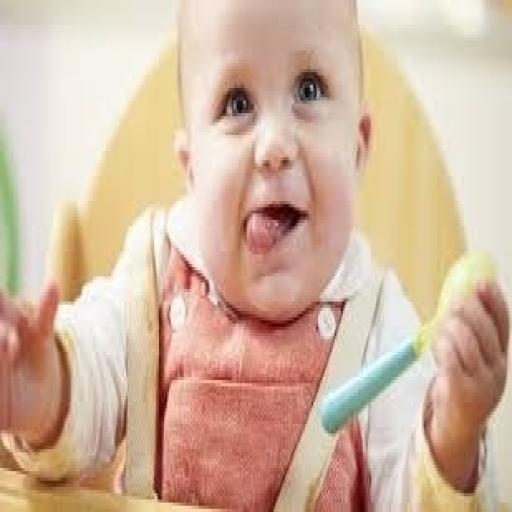laughing: (3, 3, 507, 506)
